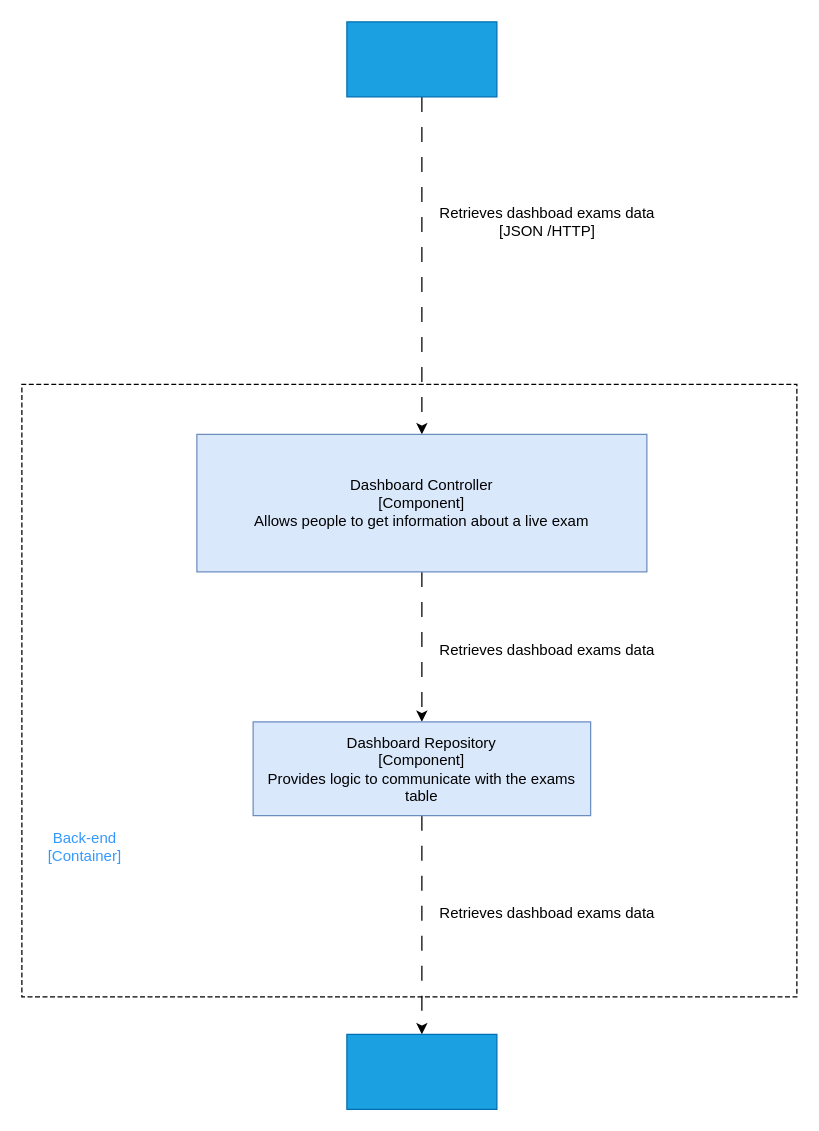
The diagram is 819 pixels wide and 1131 high, and some of its shapes have lost their labels. Here are the shapes that lost their labels. From the top down, the box of each, then its label:
(346, 21, 497, 97): Dashboard [Container]
(346, 1033, 497, 1109): Database [Container]
